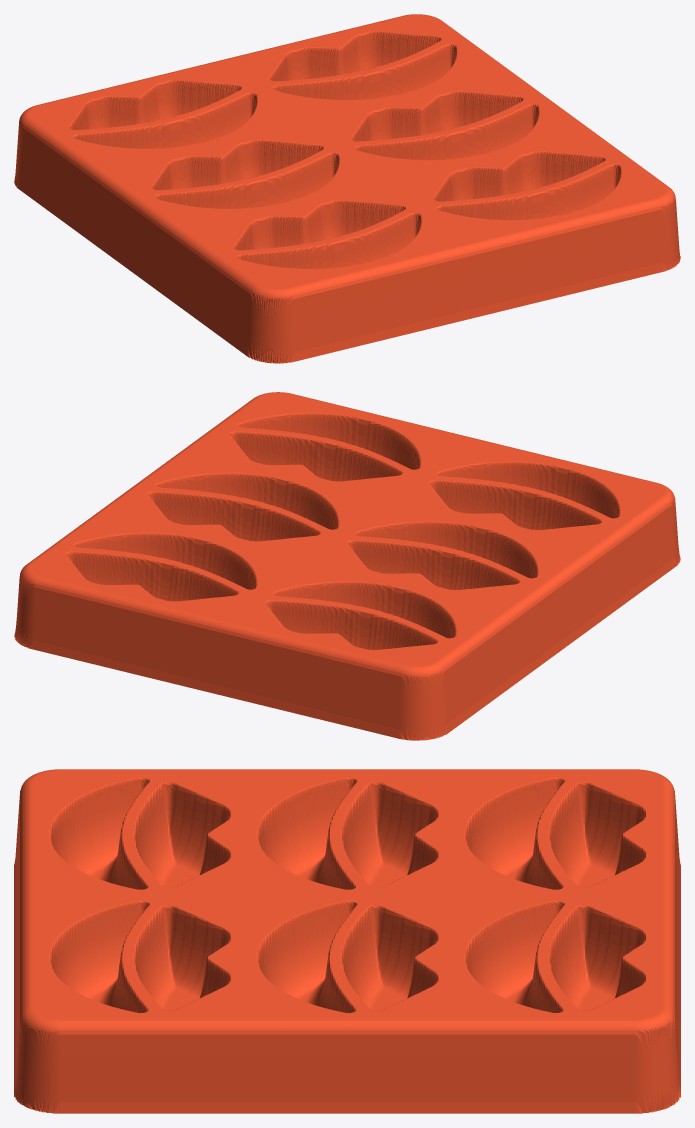
Rendered from mold.glb.
The picture shows the model from 3 angles, top to bottom: view 1: azimuth 30°, elevation 25°; view 2: azimuth 150°, elevation 25°; view 3: azimuth 270°, elevation 25°; orthographic projection. The views are drawn at different scales.
Parts seen in each view (by area): view 1: geometry_0; view 2: geometry_0; view 3: geometry_0.
Boxes of the visible parts, x1,y1,x2,y2 form: geometry_0: (14, 14, 680, 363); geometry_0: (14, 392, 680, 740); geometry_0: (14, 769, 680, 1113).
Size of the model in its own units: 0.1222 by 0.0185 by 0.13.
